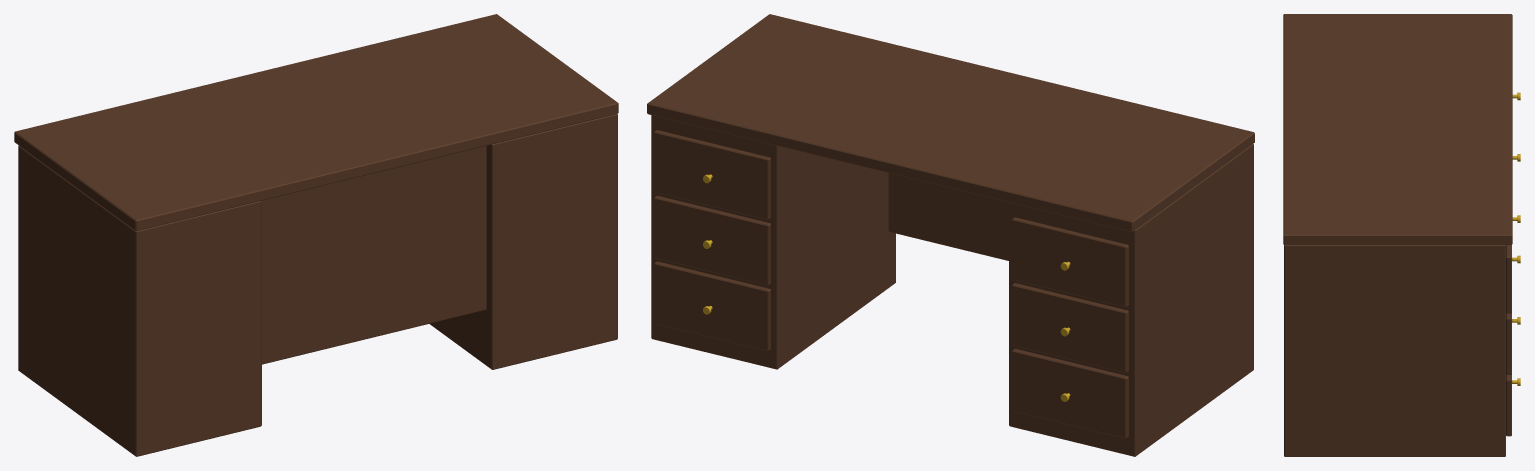
File: prop_of_attendant_desk_w160.glb
The picture shows the model from 3 angles, left to right: view 1: azimuth 30°, elevation 25°; view 2: azimuth 150°, elevation 25°; view 3: azimuth 270°, elevation 25°; orthographic projection. The views are drawn at different scales.
Visible parts, largest first — view 1: Desk; view 2: Desk; view 3: Desk.
Boxes of the visible parts, <box> form: Desk: <box>14,14,618,456</box>; Desk: <box>647,14,1254,456</box>; Desk: <box>1283,14,1520,456</box>.
Size of the model in its own units: 1.6 by 0.75 by 0.725.
